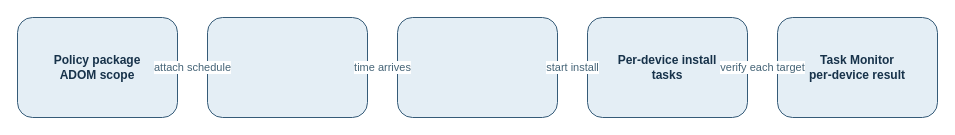
This 955x135 diagram has some shape labels left out. The centre of each missing label's shape, as x and y in pixels:
Recurring schedule start / cadence / end: (x=287, y=67)
Time trigger maintenance window: (x=477, y=67)
